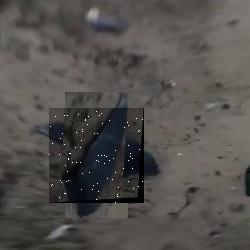plastic: (49, 108, 144, 203)
